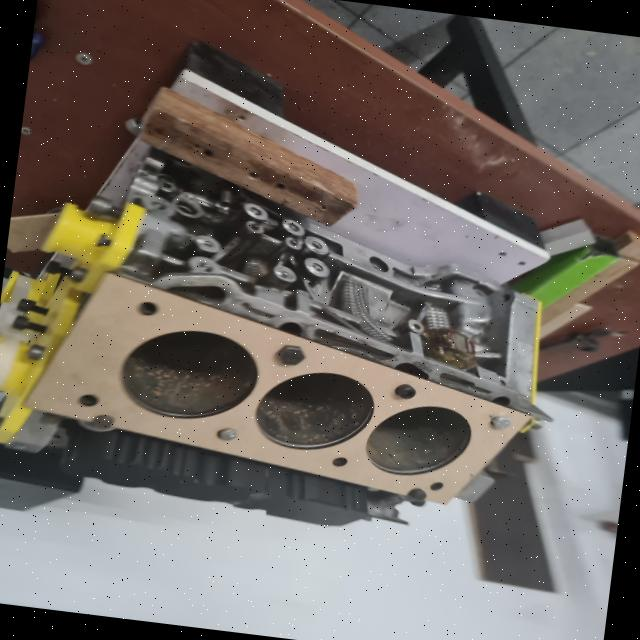tor_v1: (27, 274, 529, 503)
